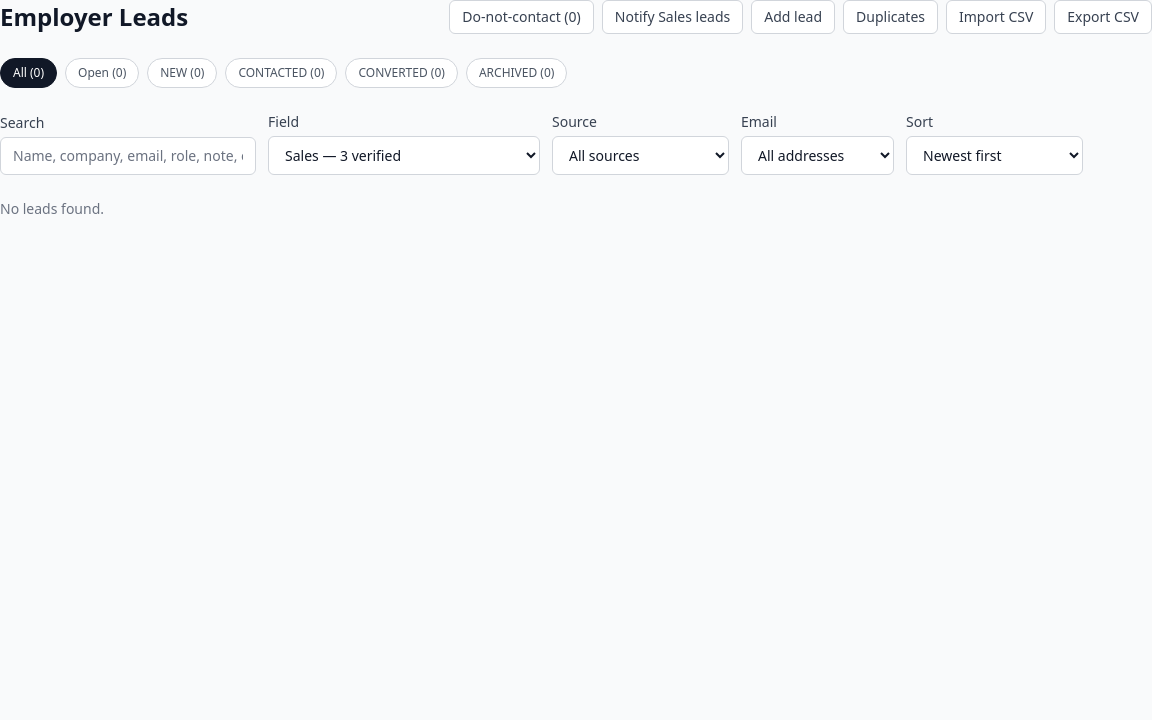
it: AdminLeads — notify toast › reports skipped and failed leads separately, and does not tell you to press again for them
The width and height of the screenshot is (1152, 720).
Click the button "Notify Sales leads".
click(673, 17)  # box left=602, top=0, right=743, bottom=34
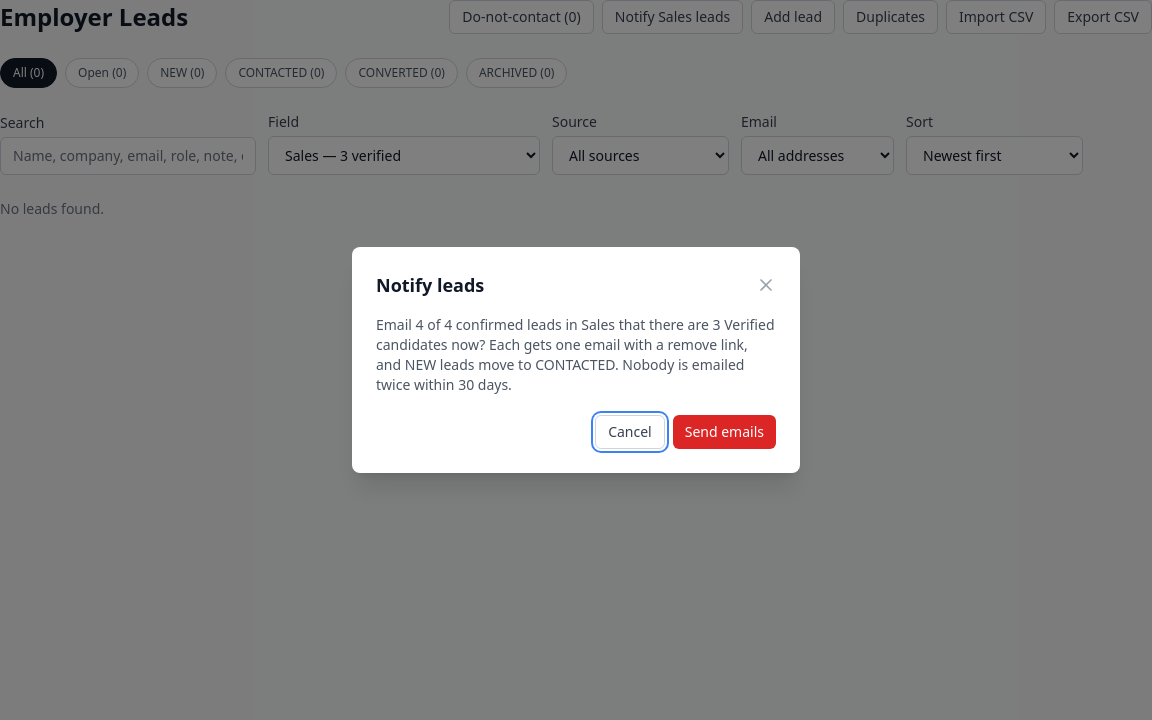
Click the button "Send emails".
click(724, 432)  # box left=673, top=415, right=776, bottom=449
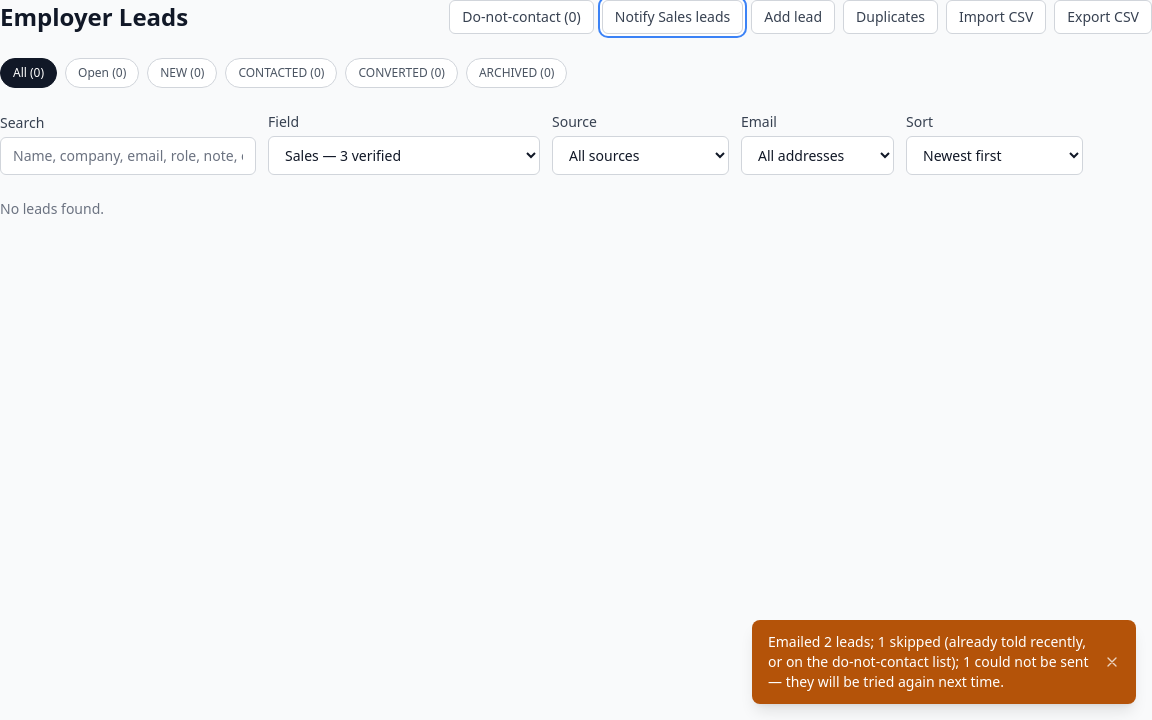
Expected: the text "Emailed 2 leads; 1 skipped" shows "1 could not be sent — they will be tried again next time", left=768, top=632, right=1088, bottom=691
